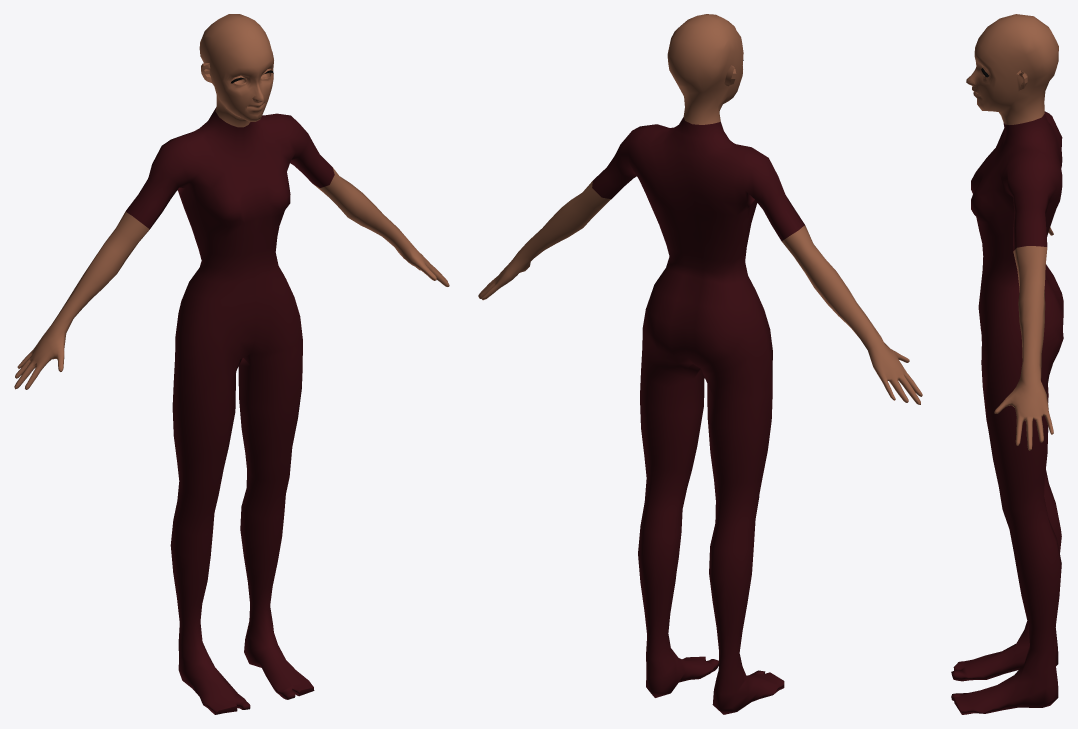
The picture shows the model from 3 angles, left to right: view 1: azimuth 30°, elevation 25°; view 2: azimuth 150°, elevation 25°; view 3: azimuth 270°, elevation 25°; orthographic projection. The views are drawn at different scales.
Visible parts, largest first — view 1: Body_Base1; view 2: Body_Base1; view 3: Body_Base1.
Boxes of the visible parts, bbox=[...] form: Body_Base1: bbox=[14, 14, 449, 714]; Body_Base1: bbox=[478, 14, 922, 714]; Body_Base1: bbox=[951, 14, 1063, 714].
Bounding box in the file's own units: 12.91 × 18.99 × 2.87.
